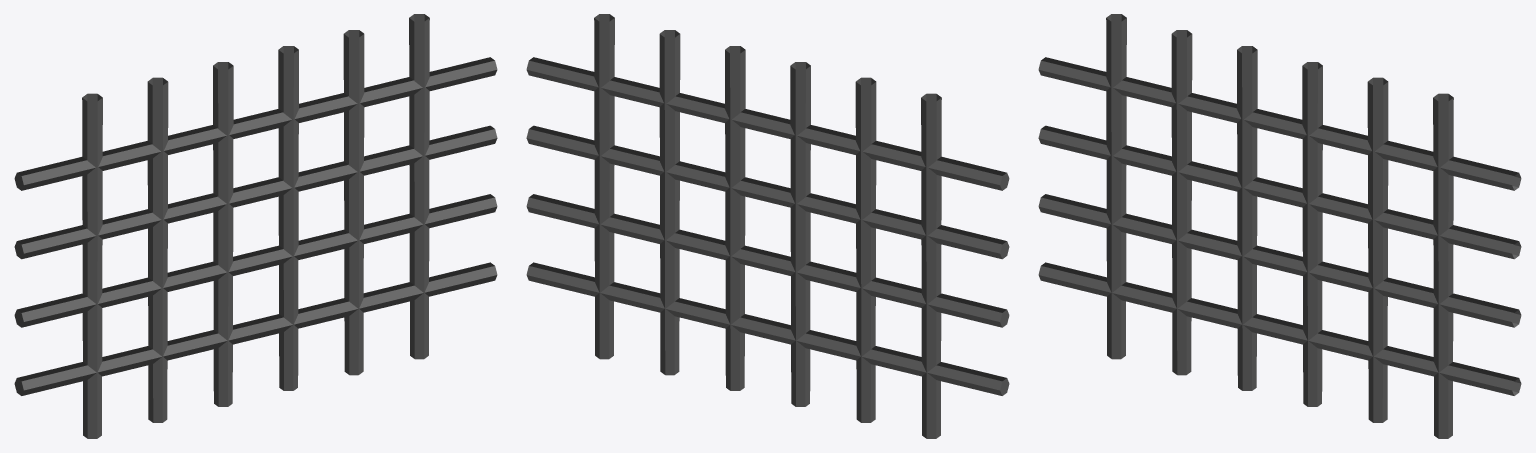
File: Wall_Gated.fbx
The picture shows the model from 3 angles, left to right: view 1: azimuth 30°, elevation 25°; view 2: azimuth 150°, elevation 25°; view 3: azimuth 330°, elevation 25°; orthographic projection.
Visible parts, largest first — view 1: Wall_Gated; view 2: Wall_Gated; view 3: Wall_Gated.
Boxes of the visible parts, bbox=[...] form: Wall_Gated: bbox=[14, 14, 497, 438]; Wall_Gated: bbox=[526, 14, 1009, 438]; Wall_Gated: bbox=[1038, 14, 1521, 438].
Bounding box in the file's own units: 3.62 × 2.47 × 0.1374.
Materials: 1 (1 with a texture image).
